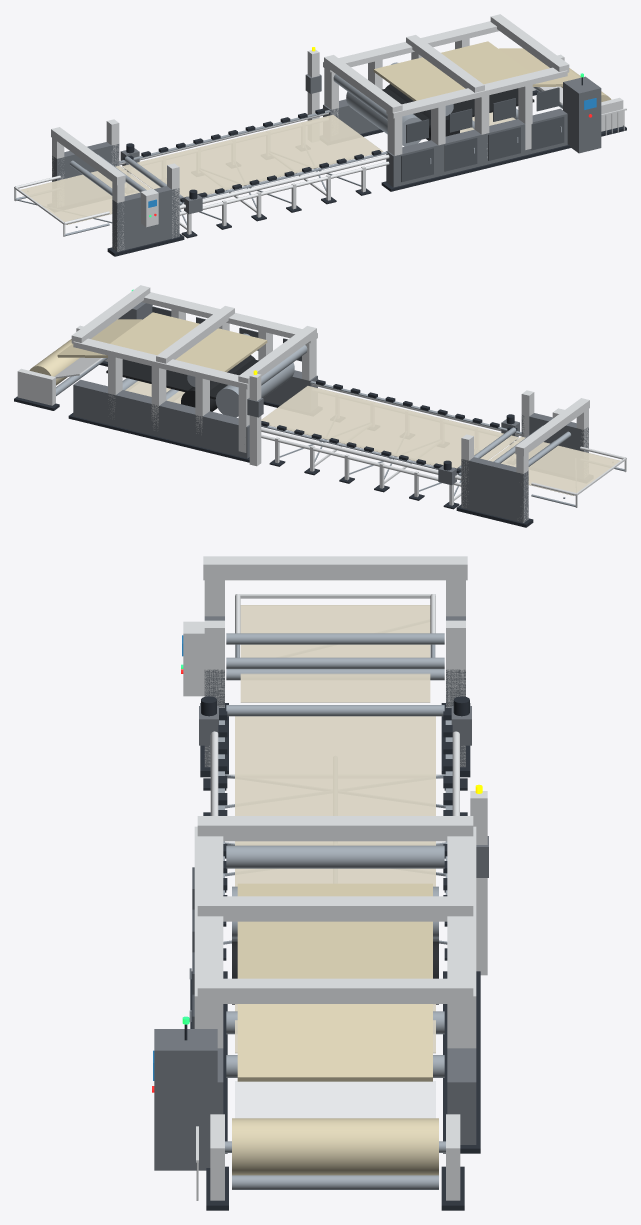
File: kompaktor.glb
3 views of the same model, one above another, from view 1: azimuth 30°, elevation 25°; view 2: azimuth 150°, elevation 25°; view 3: azimuth 270°, elevation 25° (orthographic). The views are drawn at different scales.
Visible parts, largest first — view 1: Asset; view 2: Asset; view 3: Asset.
Boxes of the visible parts, x1,y1,x2,y2 form: Asset: (14,14,626,256); Asset: (14,285,626,527); Asset: (152,556,488,1210).
Bounding box in the file's own units: 22.33 × 3.56 × 5.87.
